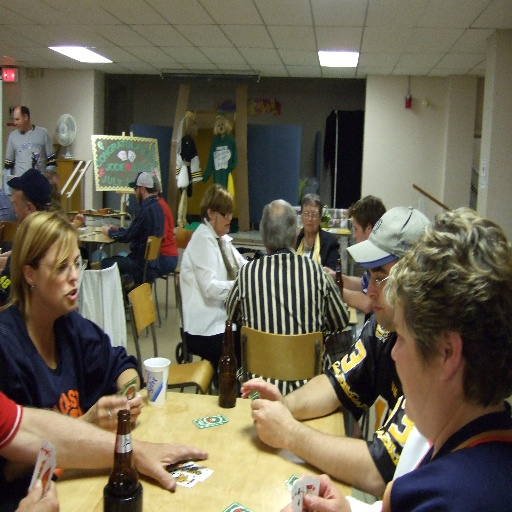hand: (135, 440, 208, 491), (240, 388, 295, 454), (292, 470, 351, 511), (240, 374, 286, 409), (14, 476, 58, 511), (84, 397, 127, 432), (126, 389, 144, 423), (323, 264, 335, 279), (101, 223, 110, 238), (108, 223, 117, 231)
